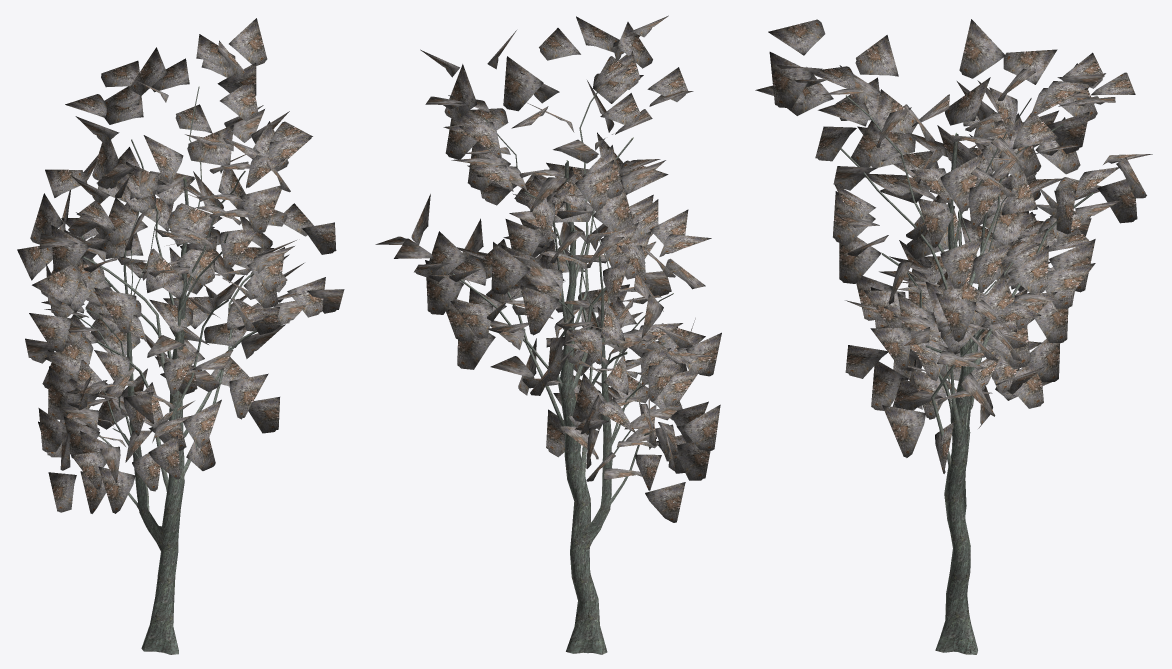
The model's file is defaultwhiteoakyoung.glb.
The picture shows the model from 3 angles, left to right: view 1: azimuth 30°, elevation 25°; view 2: azimuth 150°, elevation 25°; view 3: azimuth 270°, elevation 25°; orthographic projection. The views are drawn at different scales.
Parts seen in each view (by area): view 1: DefaultWhiteOakYoung; view 2: DefaultWhiteOakYoung; view 3: DefaultWhiteOakYoung.
Part boxes in pixels (x1,y1,x2,y2): DefaultWhiteOakYoung: (17,18,344,654); DefaultWhiteOakYoung: (375,15,721,654); DefaultWhiteOakYoung: (755,19,1152,654).
Size of the model in its own units: 6.83 by 12.94 by 7.14.
Materials: 4 (4 with a texture image).
